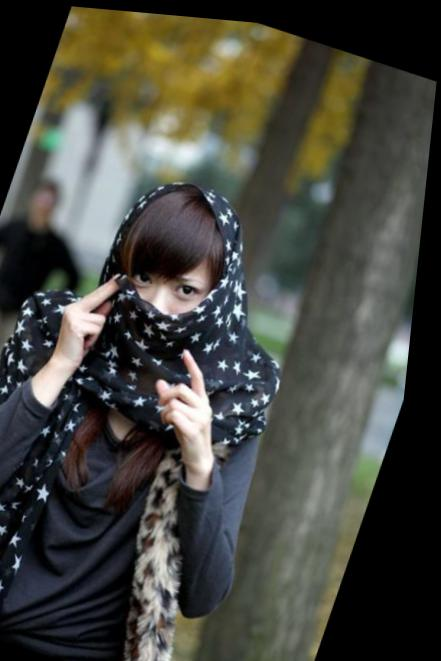WRONG: (110, 202, 236, 358)
